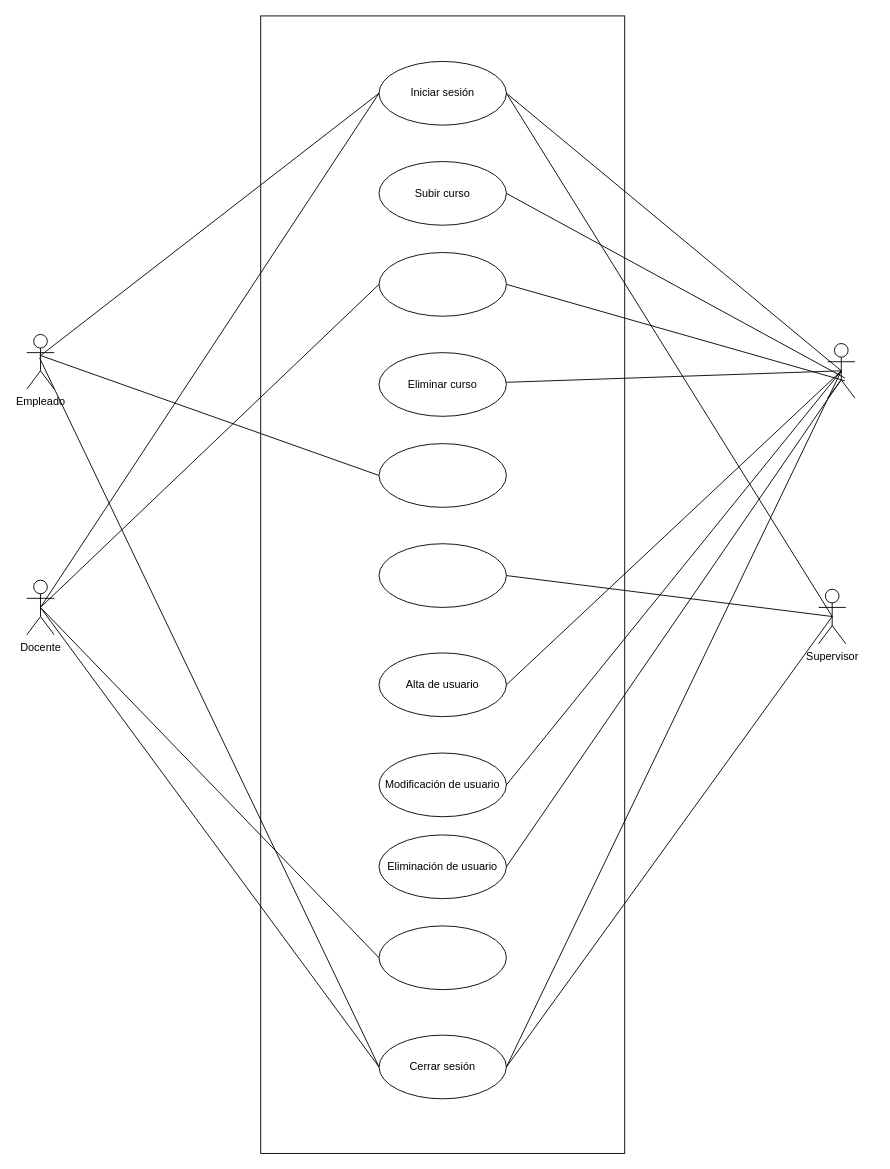
Some shapes in this 890 by 1169 pixel diagram are drawn without their labels. Here are the shapes that lost their labels. From the top down, the centre of each, then its label:
At point 442,284: "Modificar curso".
At point 841,370: "Administrador".
At point 442,475: "Inscribirse a un curso".
At point 442,575: "Revisar curso".
At point 442,957: "Subir material de apoyo".
